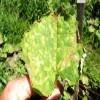Tomato leaf bacterial spot: (17, 4, 89, 99)
